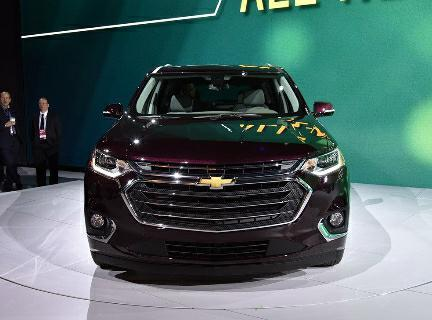雪佛兰-Traverse: (82, 60, 354, 269)
